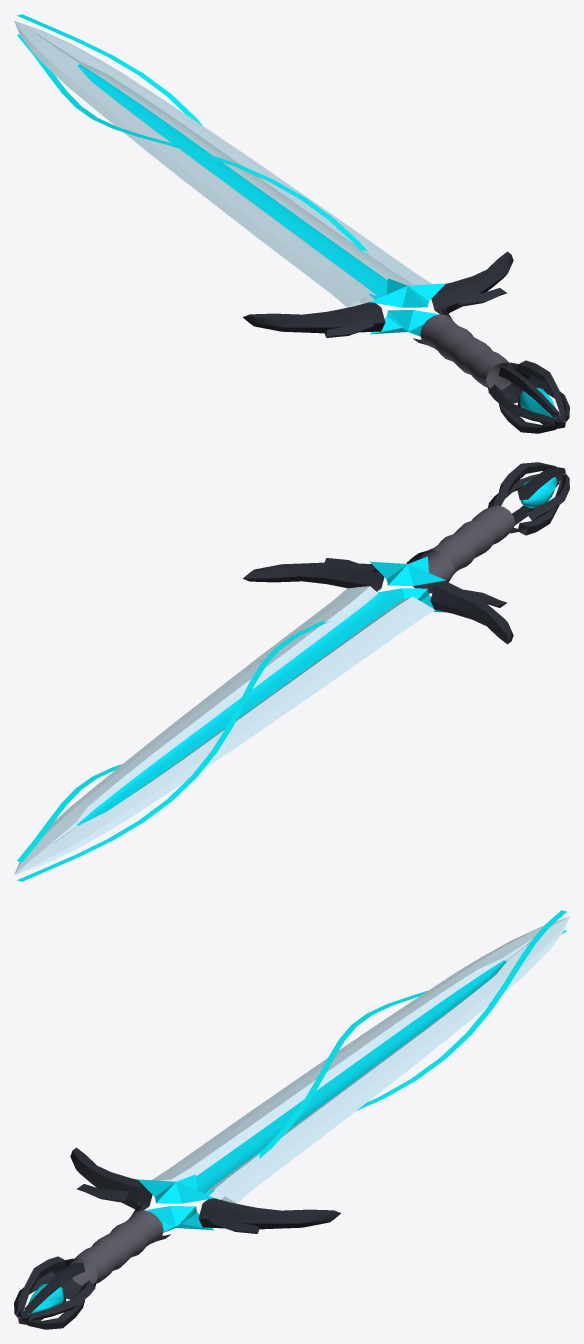
The model's file is runic_longsword.fbx.
The picture shows the model from 3 angles, top to bottom: view 1: azimuth 30°, elevation 25°; view 2: azimuth 150°, elevation 25°; view 3: azimuth 330°, elevation 25°; orthographic projection.
Parts seen in each view (by area): view 1: RunicLongsword_Mesh, RunicLongsword_AuraMesh; view 2: RunicLongsword_Mesh, RunicLongsword_AuraMesh; view 3: RunicLongsword_Mesh, RunicLongsword_AuraMesh.
Boxes of the visible parts, <box> form: RunicLongsword_Mesh: <box>14,20,569,433</box>; RunicLongsword_AuraMesh: <box>17,14,368,253</box>; RunicLongsword_Mesh: <box>14,462,569,875</box>; RunicLongsword_AuraMesh: <box>17,620,330,881</box>; RunicLongsword_Mesh: <box>14,916,569,1329</box>; RunicLongsword_AuraMesh: <box>252,910,566,1158</box>.
Bounding box in the file's own units: 1.38 × 0.2633 × 4.95.
